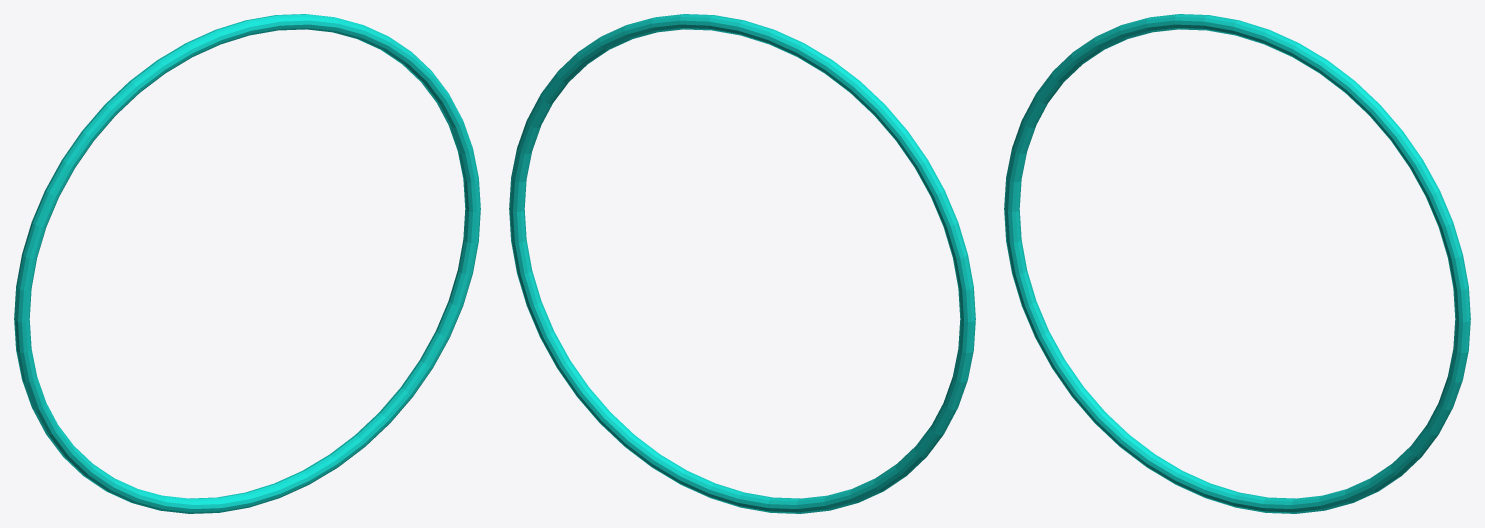
3 views of the same model, side by side, from view 1: azimuth 30°, elevation 25°; view 2: azimuth 150°, elevation 25°; view 3: azimuth 330°, elevation 25° (orthographic).
Visible parts, largest first — view 1: Torus.001; view 2: Torus.001; view 3: Torus.001.
Part boxes in pixels (box(x1,y1,x2,y2)): Torus.001: box(14, 14, 480, 513); Torus.001: box(509, 14, 975, 513); Torus.001: box(1004, 14, 1470, 513).
Bounding box in the file's own units: 754 × 754 × 22.
